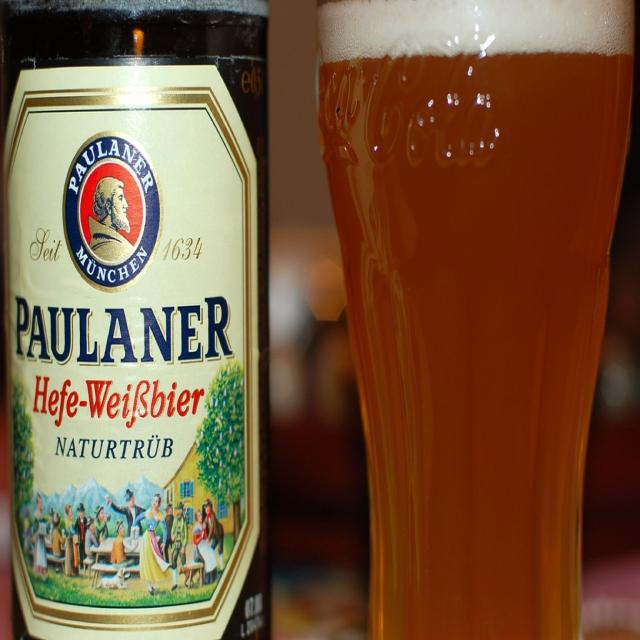paulaner: (63, 130, 163, 295)
